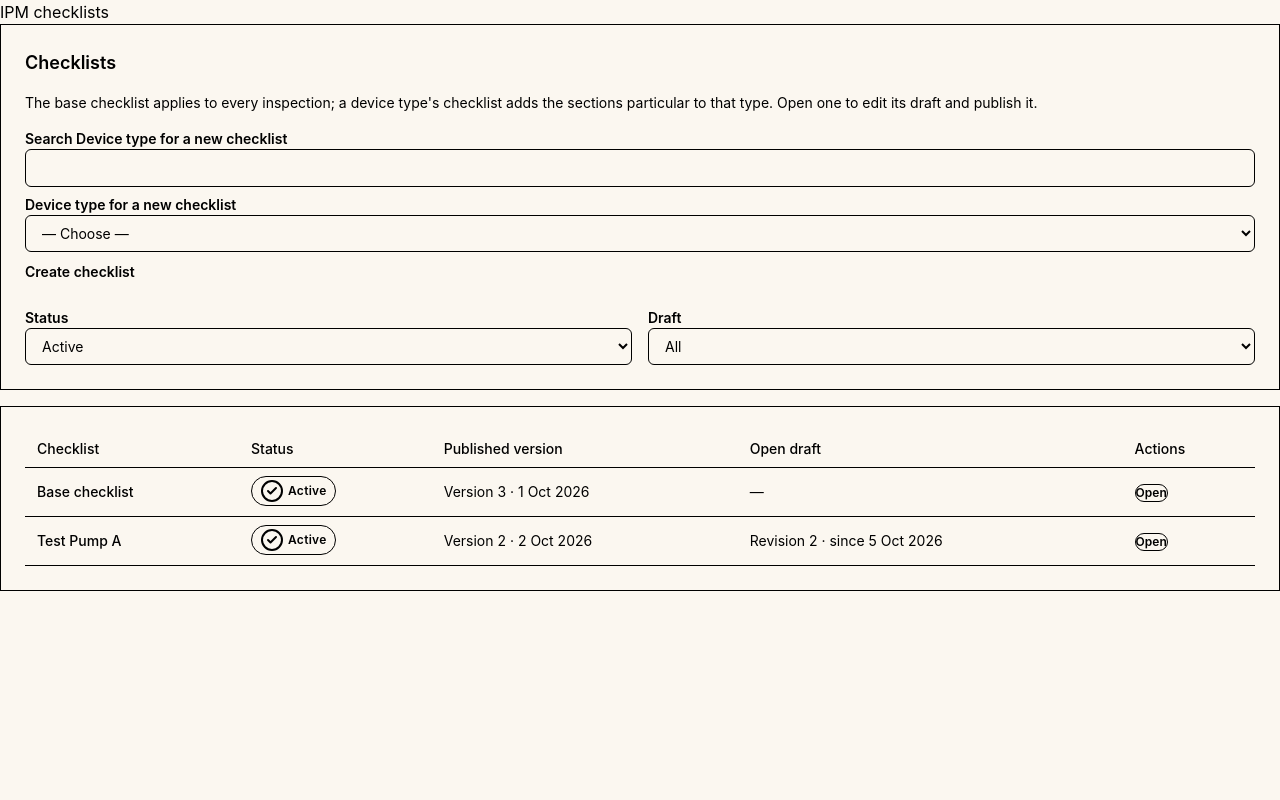
Test: P22-01 — the operator's checklists › publishes with a change note after a confirmation, then shows no draft
The image size is (1280, 800).
Click the button with aria-label "Open Test Pump A".
click(1151, 542)  # box 1135,533 -> 1168,551
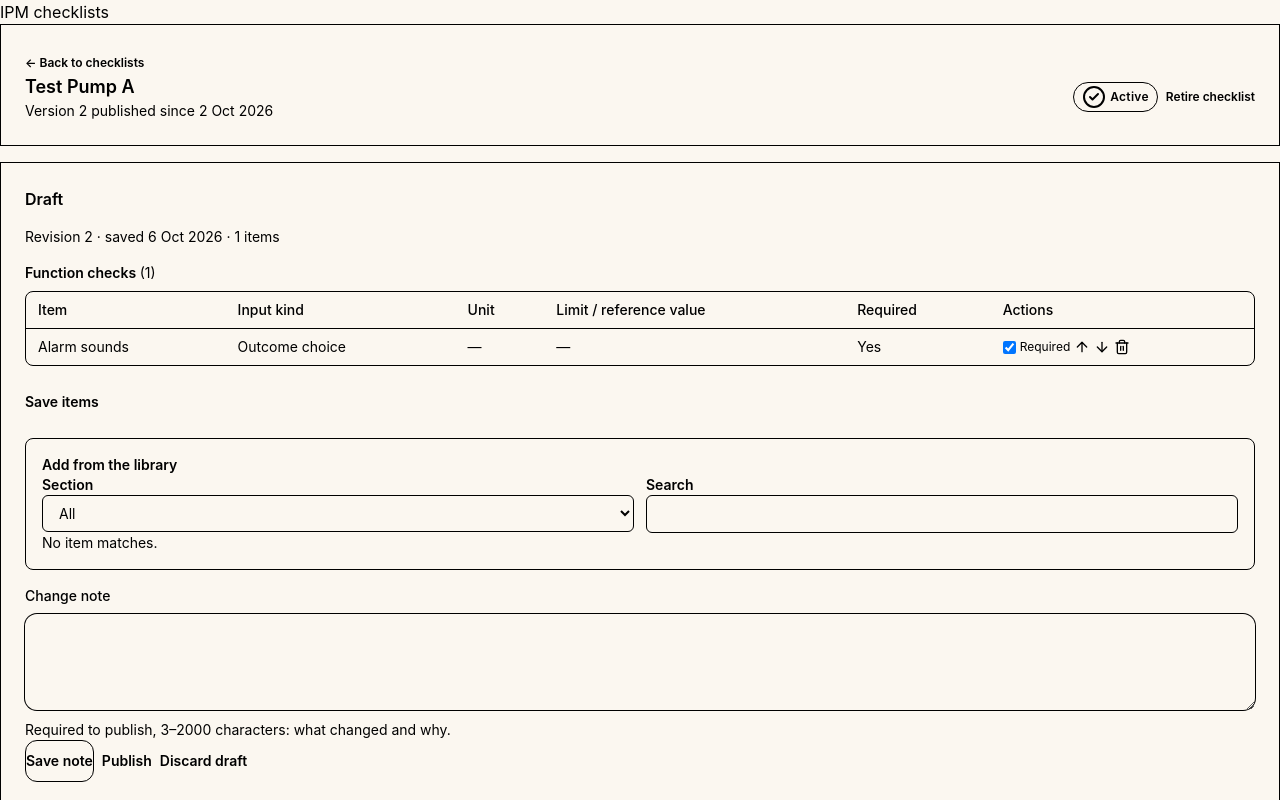
Check: the button "Publish" is disabled, box 102,740 -> 152,782
Type "Adds the occlusion check" into the text box labelled "Change note".
click(640, 662); type("Adds the occlusion check")  # box 25,614 -> 1255,710
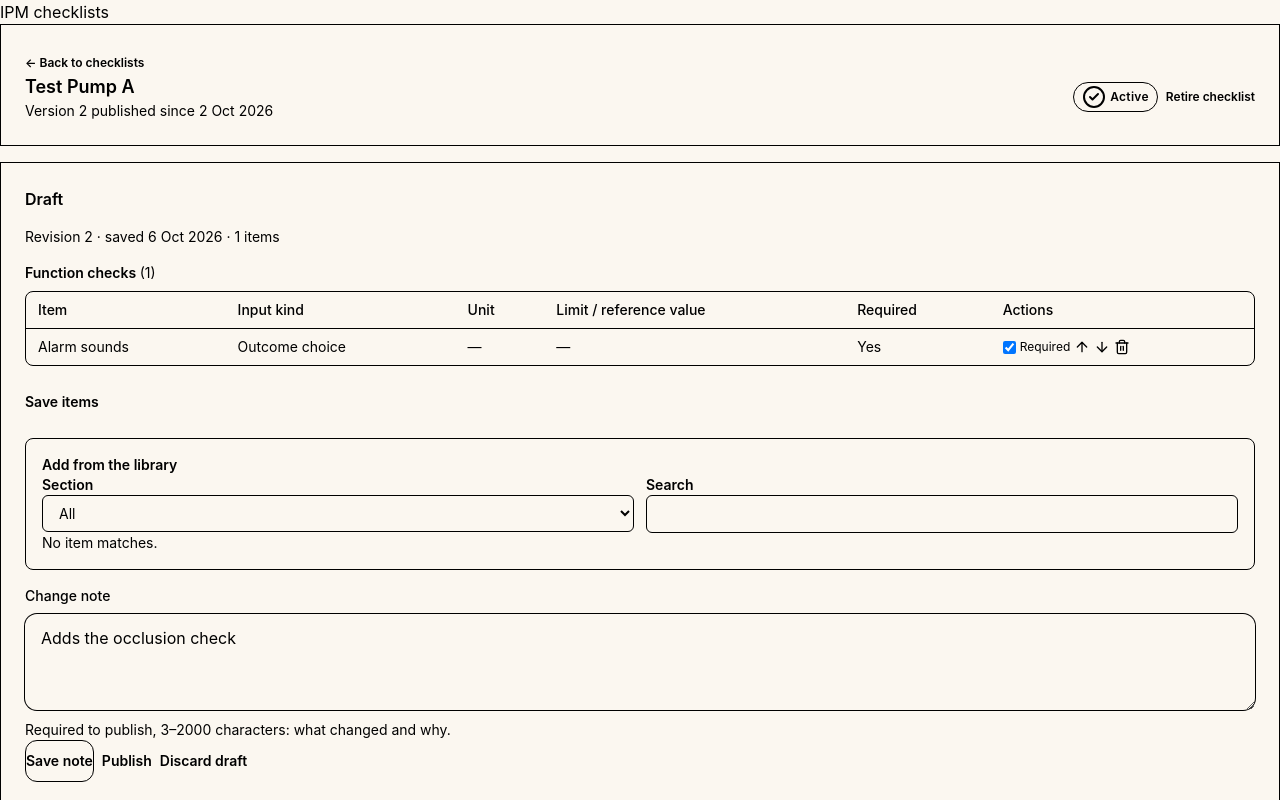
Click the button "Save note".
click(59, 761)  # box 25,740 -> 94,782
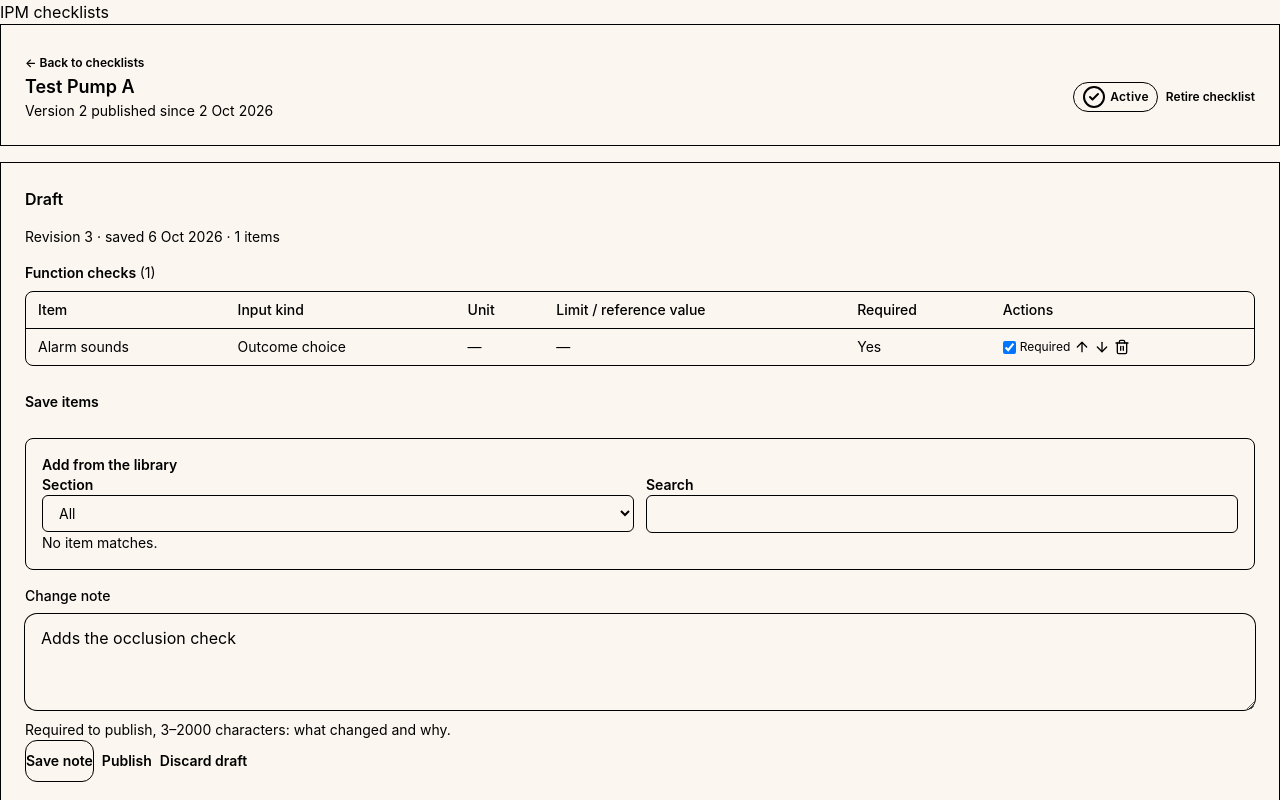
Click the button "Publish".
click(127, 761)  # box 102,740 -> 152,782
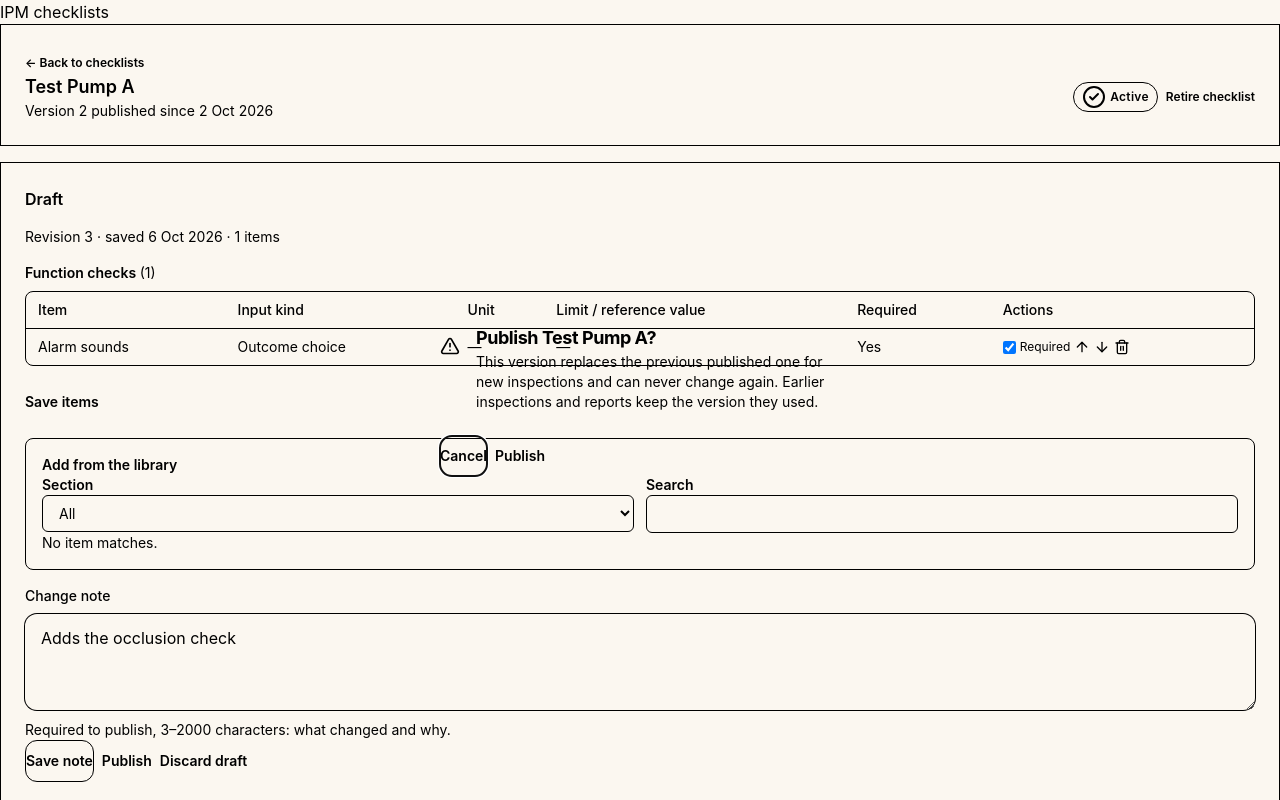
Check: the dialog shows "Earlier inspections and reports keep the version they used.", box 476,353 -> 824,410
Click the button "Publish".
click(520, 456)  # box 495,436 -> 545,476
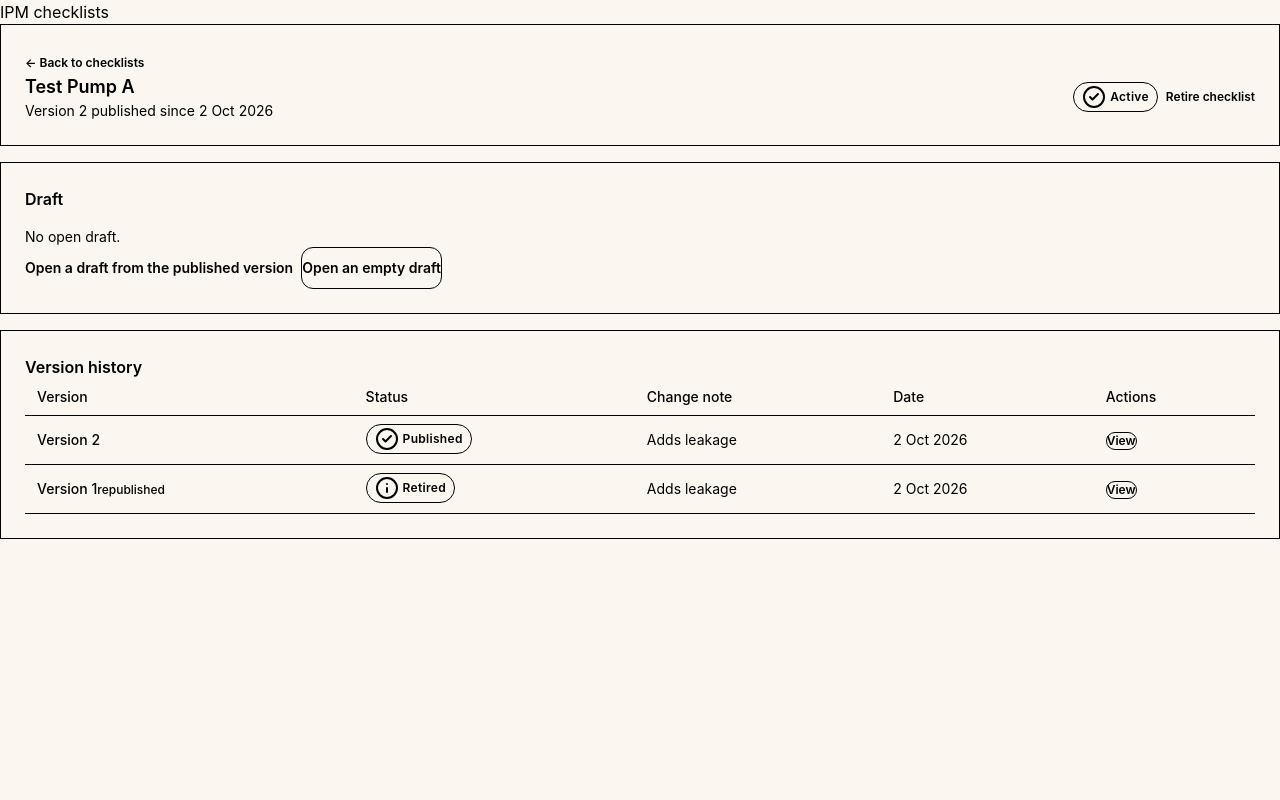
Check: the text "No open draft." is shown, box 25,228 -> 120,245
